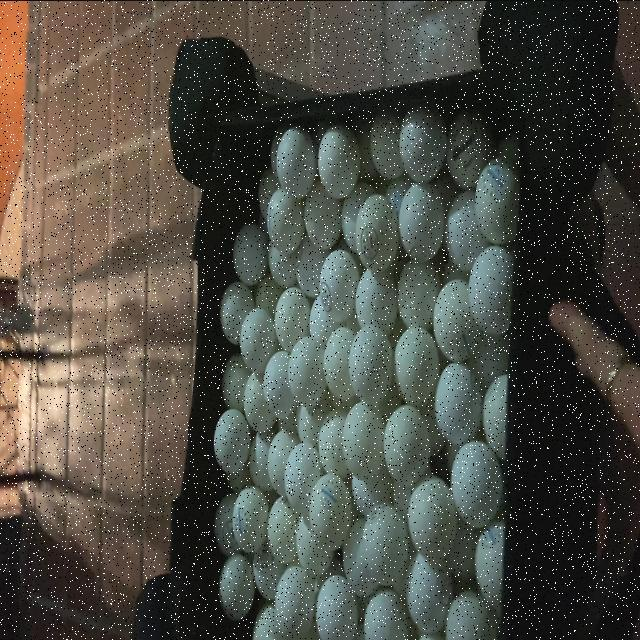ping-pong-ball: (446, 432, 504, 528), (407, 471, 459, 573), (380, 403, 435, 492), (391, 308, 440, 406), (357, 504, 411, 590), (401, 551, 453, 640), (464, 238, 508, 342), (398, 179, 450, 262), (434, 357, 482, 446), (354, 186, 402, 274), (337, 404, 385, 492), (431, 276, 477, 364), (347, 324, 395, 404), (315, 119, 361, 202), (270, 562, 319, 638), (314, 242, 358, 326), (317, 318, 361, 401), (311, 570, 360, 640), (305, 476, 351, 550), (274, 122, 315, 198), (263, 185, 305, 256), (212, 408, 252, 482), (271, 276, 311, 346), (216, 550, 256, 620), (238, 299, 274, 375), (230, 216, 269, 286), (288, 334, 322, 412), (231, 483, 267, 554), (282, 442, 320, 508), (262, 350, 296, 420), (220, 284, 255, 344)
